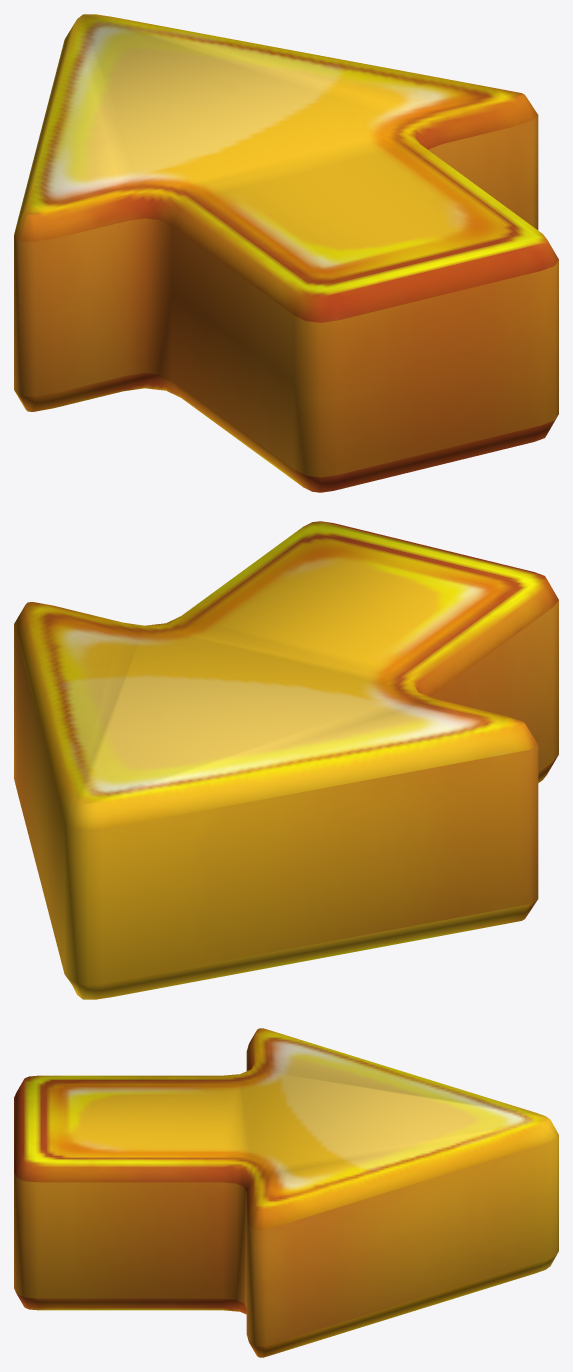
File: Scenes_common_ arrow.FBX
The picture shows the model from 3 angles, top to bottom: view 1: azimuth 30°, elevation 25°; view 2: azimuth 150°, elevation 25°; view 3: azimuth 270°, elevation 25°; orthographic projection. The views are drawn at different scales.
Parts seen in each view (by area): view 1: Scenes_common_ arrow; view 2: Scenes_common_ arrow; view 3: Scenes_common_ arrow.
Part boxes in pixels (box(x1,y1,x2,y2)): Scenes_common_ arrow: box(14, 14, 558, 492); Scenes_common_ arrow: box(14, 521, 558, 999); Scenes_common_ arrow: box(14, 1028, 558, 1357).
Bounding box in the file's own units: 589 × 212 × 713.
